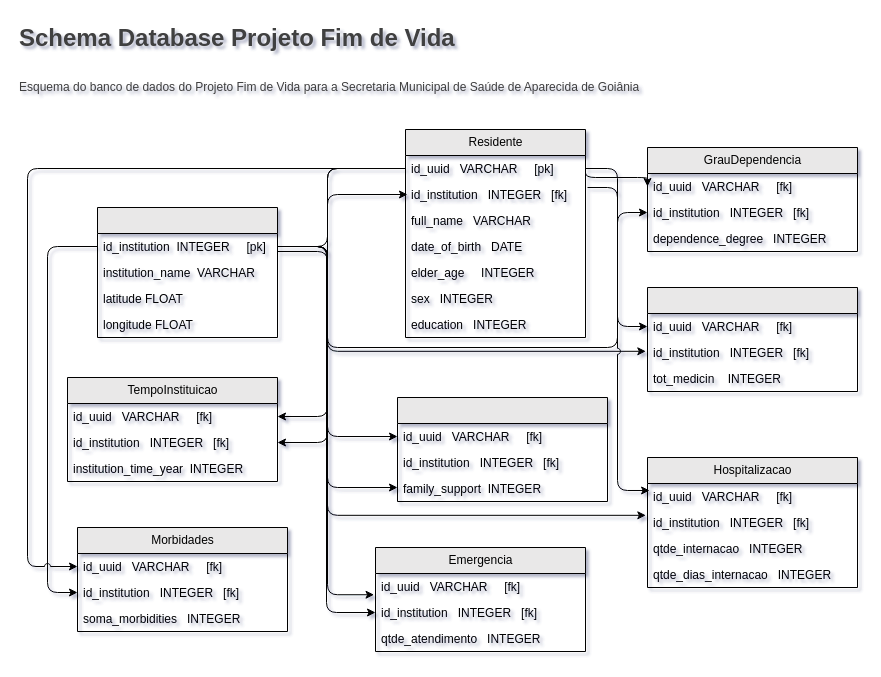
This 881x677 diagram has some shape labels left out. Here are the shapes that lost their labels. From the top down, the box of each, then its label:
(96, 206, 278, 338): ILPI
(646, 286, 858, 392): QtdeMedicTot
(396, 396, 608, 502): SuporteFamiliar
